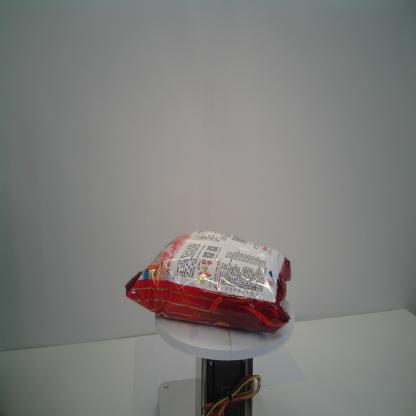Puffed Food: (124, 228, 292, 334)
